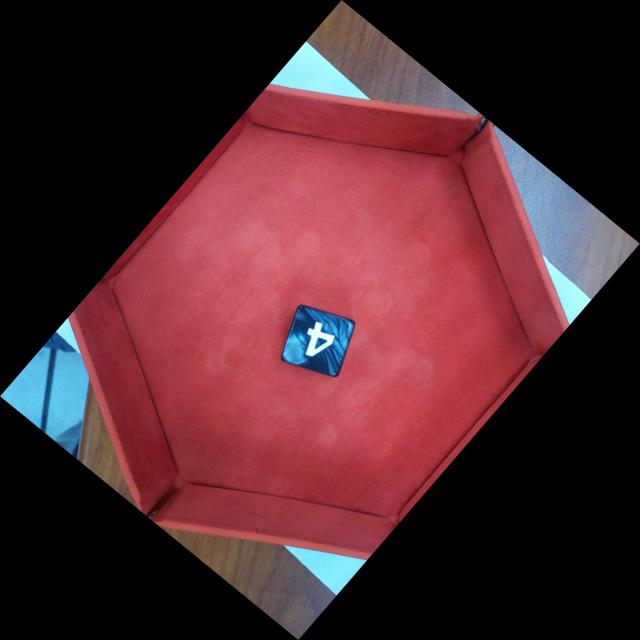dice: (280, 304, 356, 379)
